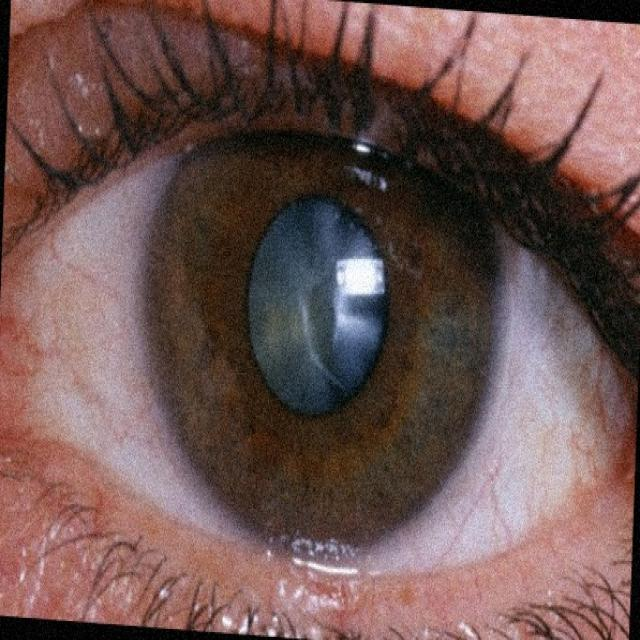Cataract: (31, 60, 565, 618)
